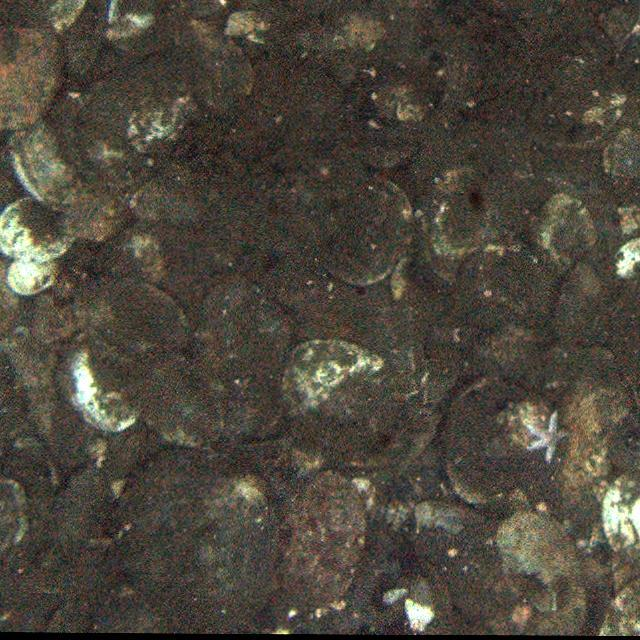crab: (272, 463, 372, 610)
